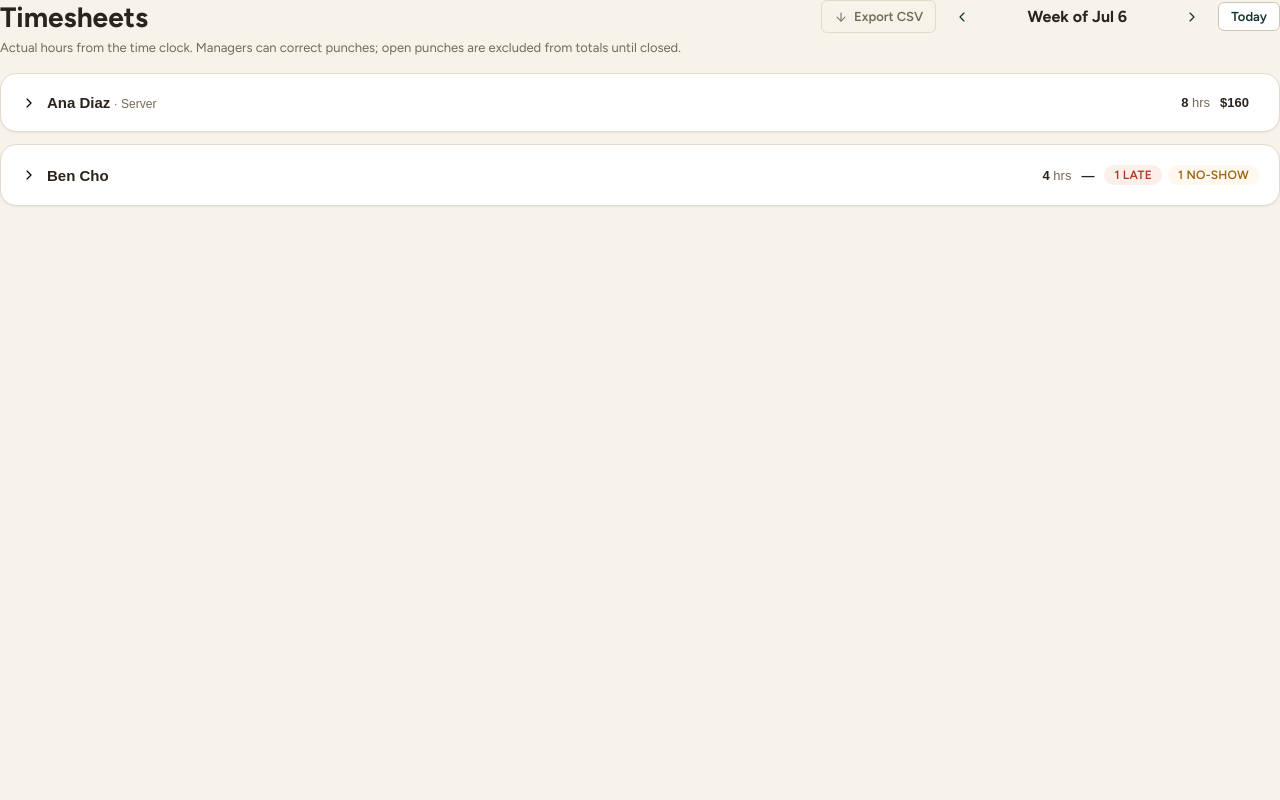
Test: TimesheetsView › prefills the edit dialog with the location-local date and time
What coordinates should you click on to do the following:
click the text "Ana Diaz"
I would click on:
 (79, 102)
Its box is [47,94,110,111].
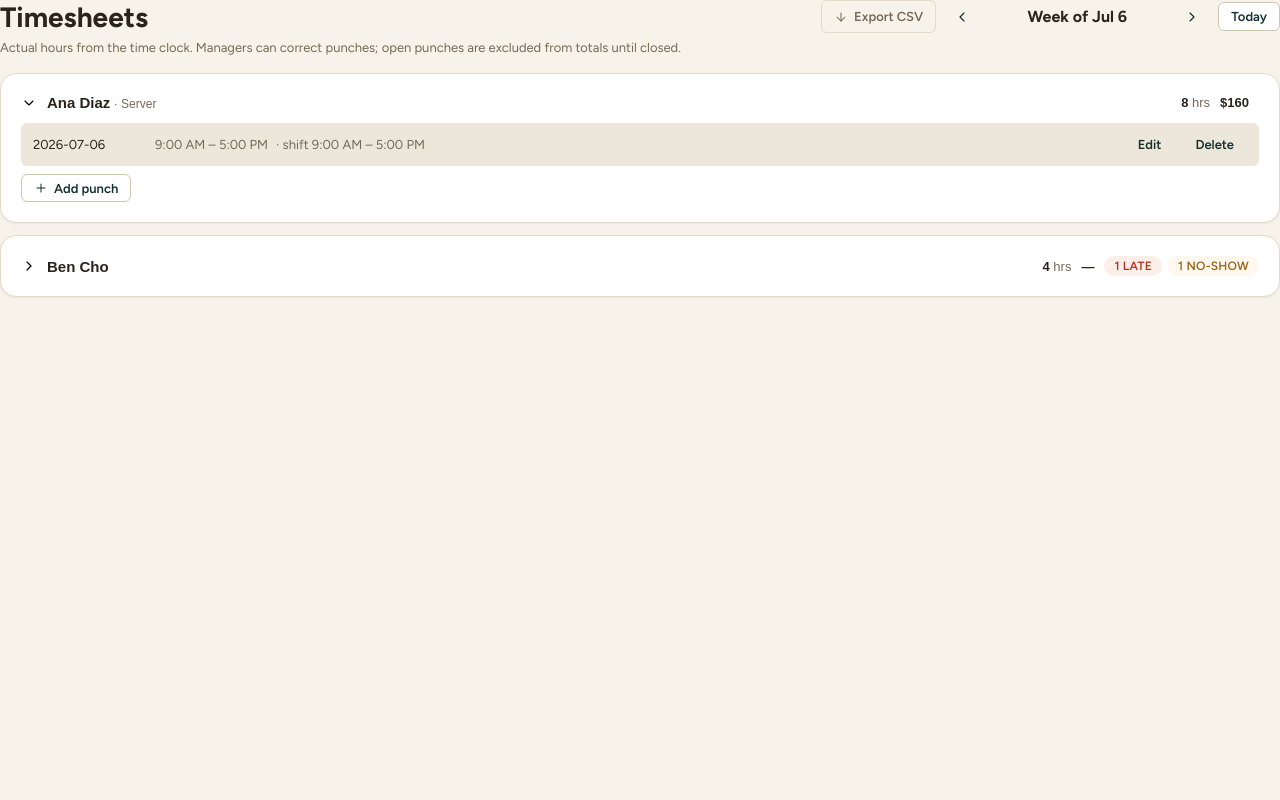
What coordinates should you click on to do the following:
click the button "Edit"
I would click on:
 (1150, 144)
Its box is [1125,131,1174,158].
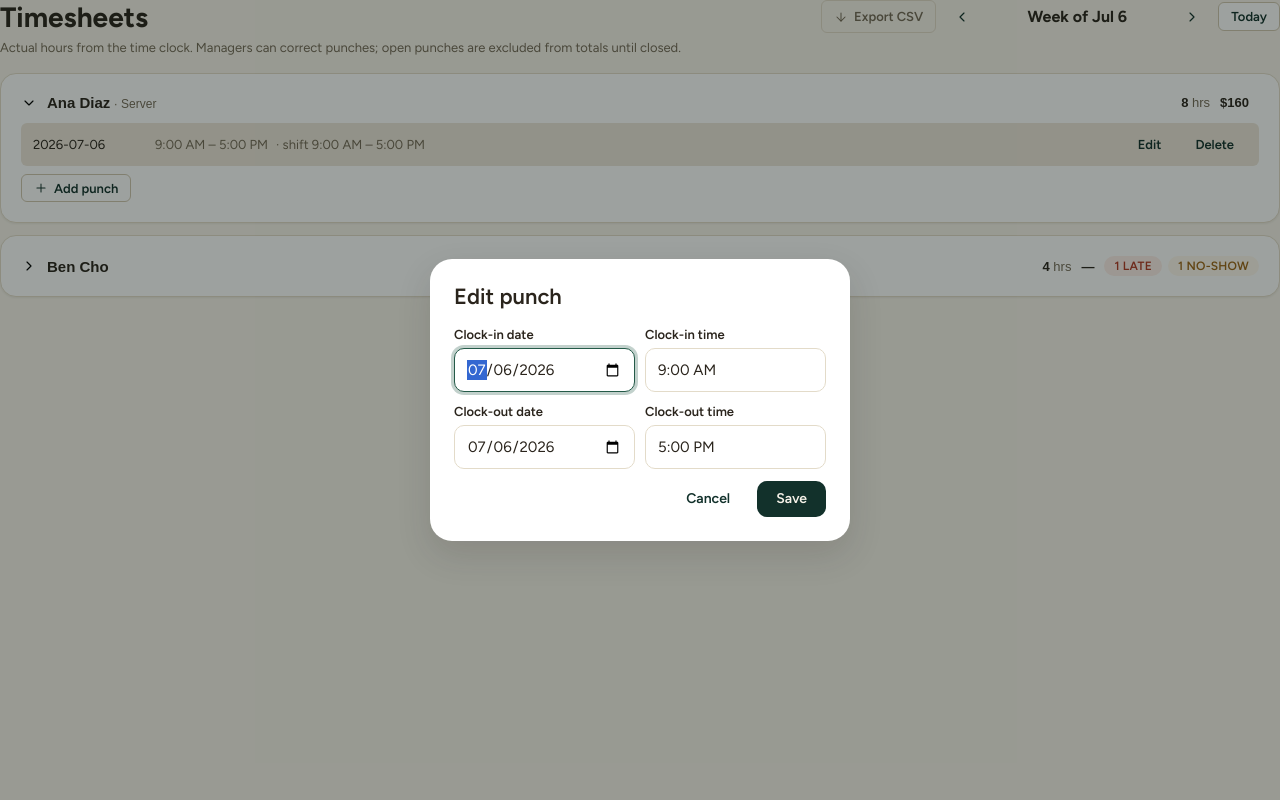
Expected: the date field labelled "Clock-in date" holds "2026-07-06", [467,360,622,380]
Expected: the field labelled "Clock-in time" holds "9:00 AM", [658,361,813,379]
Expected: the date field labelled "Clock-out date" holds "2026-07-06", [467,437,622,457]
